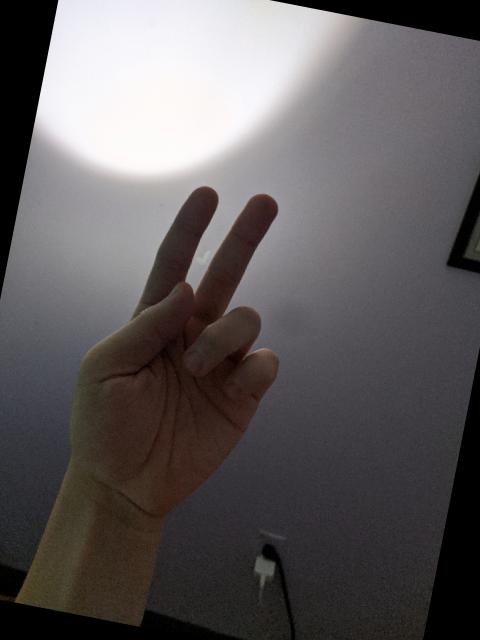K: (44, 159, 318, 542)
